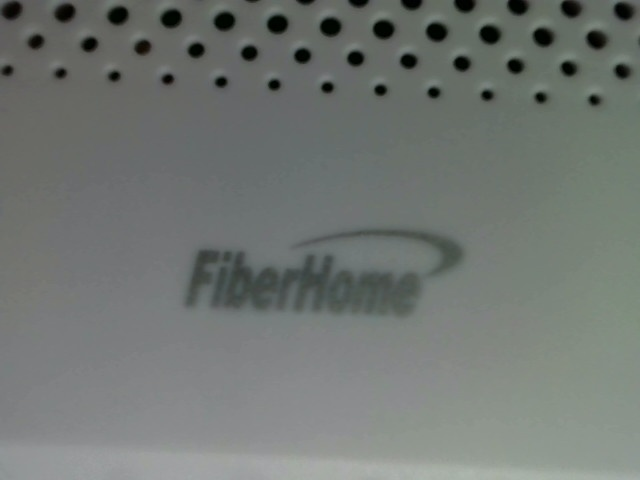AI_FiberHome: (177, 218, 480, 335)
